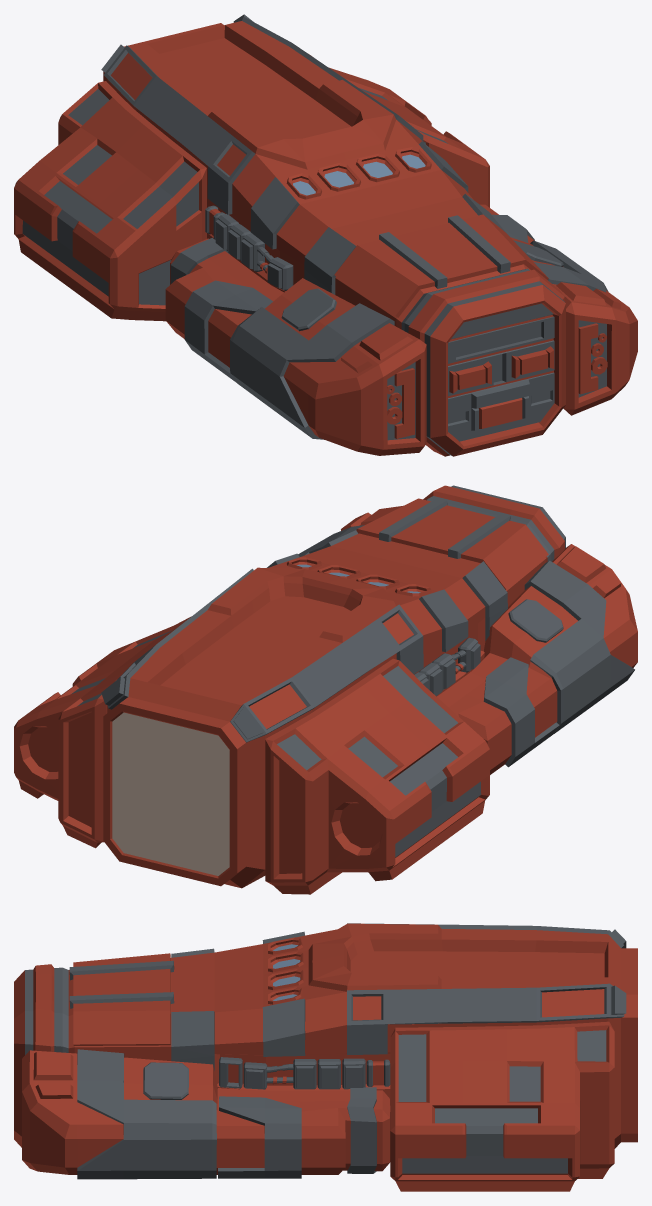
Rendered from Mothership_01_Body_Red.fbx.
The picture shows the model from 3 angles, top to bottom: view 1: azimuth 30°, elevation 25°; view 2: azimuth 150°, elevation 25°; view 3: azimuth 270°, elevation 25°; orthographic projection. The views are drawn at different scales.
Visible parts, largest first — view 1: Mothership_01_Body_Red; view 2: Mothership_01_Body_Red; view 3: Mothership_01_Body_Red.
Boxes of the visible parts, box(x1,y1,x2,y2) form: Mothership_01_Body_Red: box(14, 14, 637, 456); Mothership_01_Body_Red: box(14, 485, 637, 894); Mothership_01_Body_Red: box(14, 923, 637, 1191).
Bounding box in the file's own units: 4176 × 2023 × 6353.
3 materials, 3 textured.
